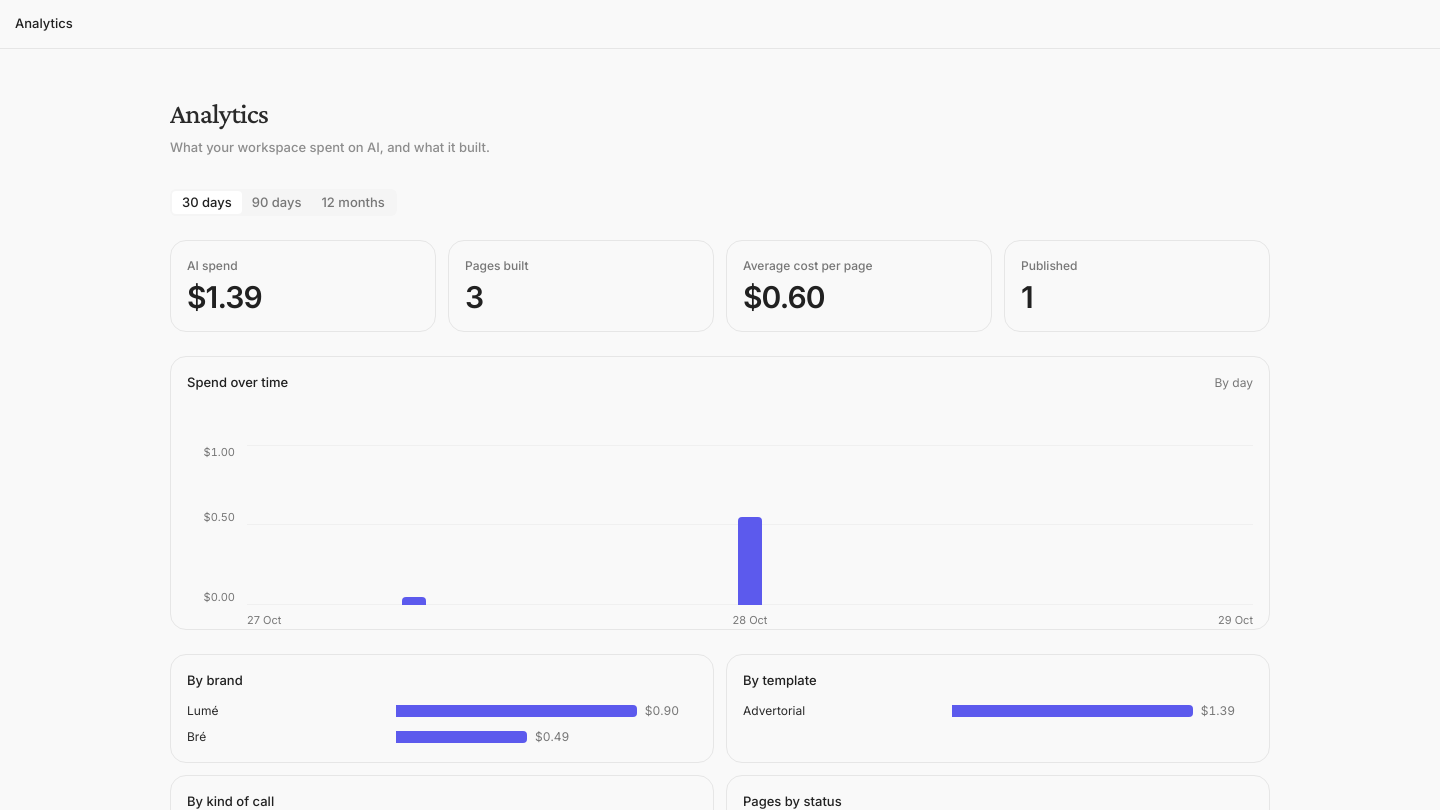
Test: AnalyticsView › shows the exact figure in a tooltip on hover, and keeps every value in a table
Hover over the button named "28 Oct: $0.55": (750, 525) [583,445,917,605]
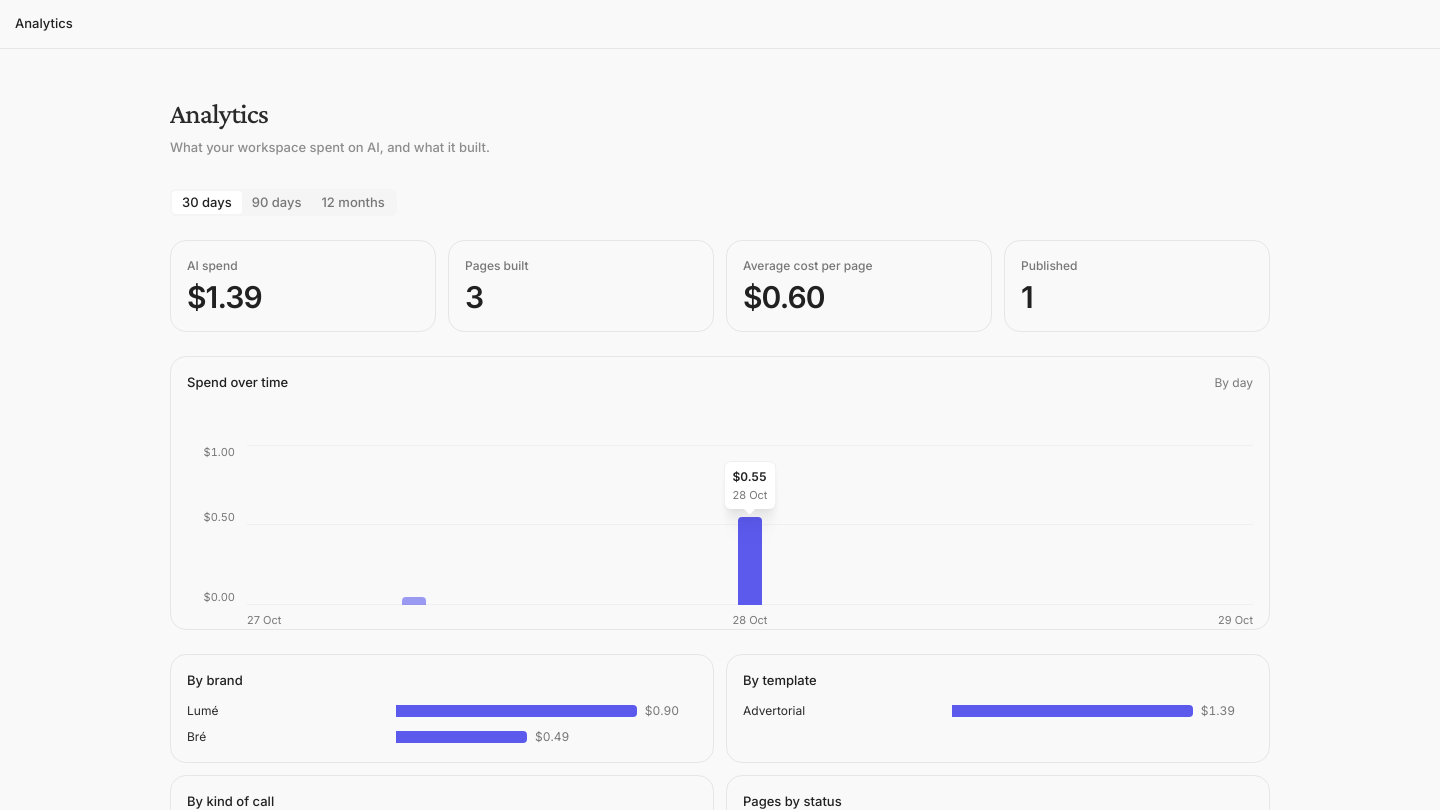
expect the text "$0.55" is shown: met, box [732,468,767,486]
expect the 1st text "28 Oct" is shown: met, box [732,488,767,503]
